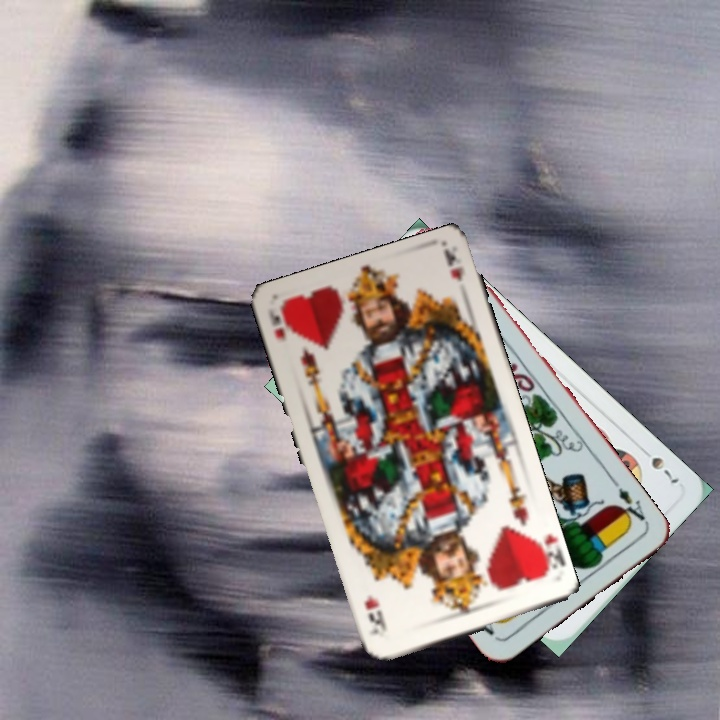EA: (611, 483, 651, 527)
HK: (526, 530, 564, 580), (264, 307, 288, 343)
S7: (636, 442, 681, 487)
